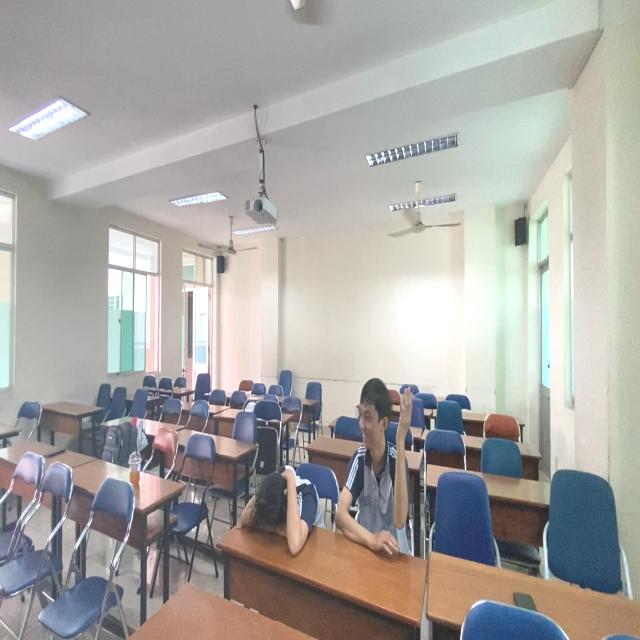raise_hand: (343, 367, 424, 561)
sleep: (237, 458, 326, 564)
